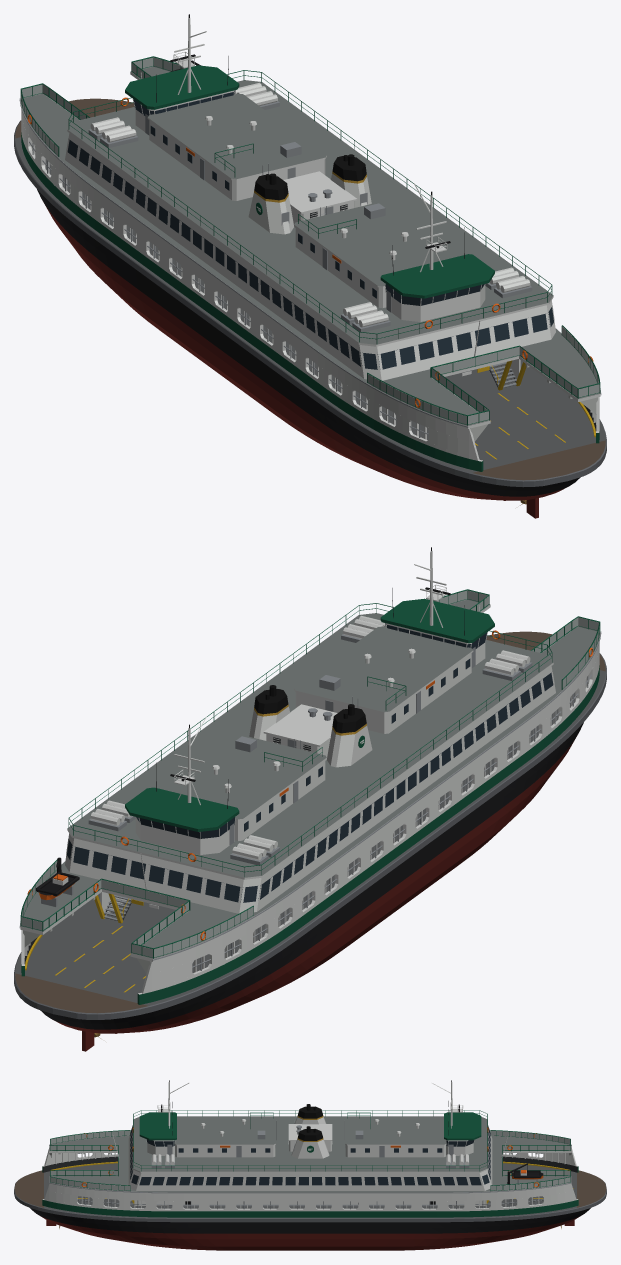
Rendered from ferry_mid.glb.
The picture shows the model from 3 angles, top to bottom: view 1: azimuth 30°, elevation 25°; view 2: azimuth 150°, elevation 25°; view 3: azimuth 270°, elevation 25°; orthographic projection. The views are drawn at different scales.
Parts seen in each view (by area): view 1: fixed, glass; view 2: fixed, glass; view 3: fixed, glass, window.
Part boxes in pixels (x1,y1,x2,y2): fixed: (14, 14, 606, 518); glass: (67, 90, 553, 369); fixed: (14, 547, 606, 1051); glass: (67, 623, 553, 902); fixed: (14, 1080, 606, 1250); glass: (130, 1126, 490, 1185); window: (178, 1148, 442, 1152).
Size of the model in its own units: 22.3 by 26 by 94.5.
